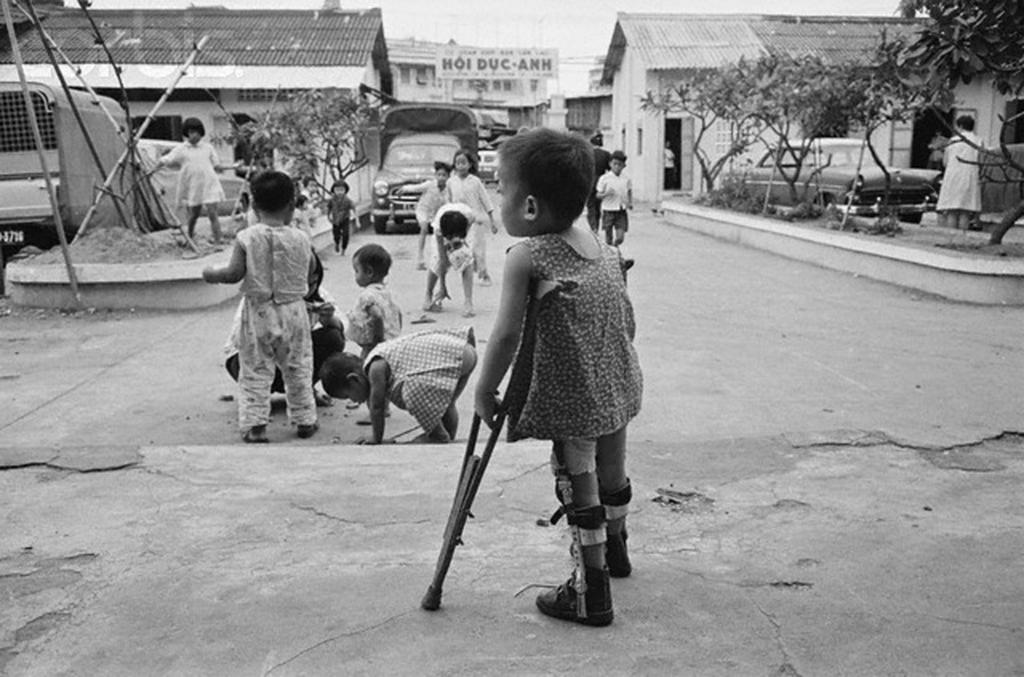crutches: (415, 125, 650, 639)
